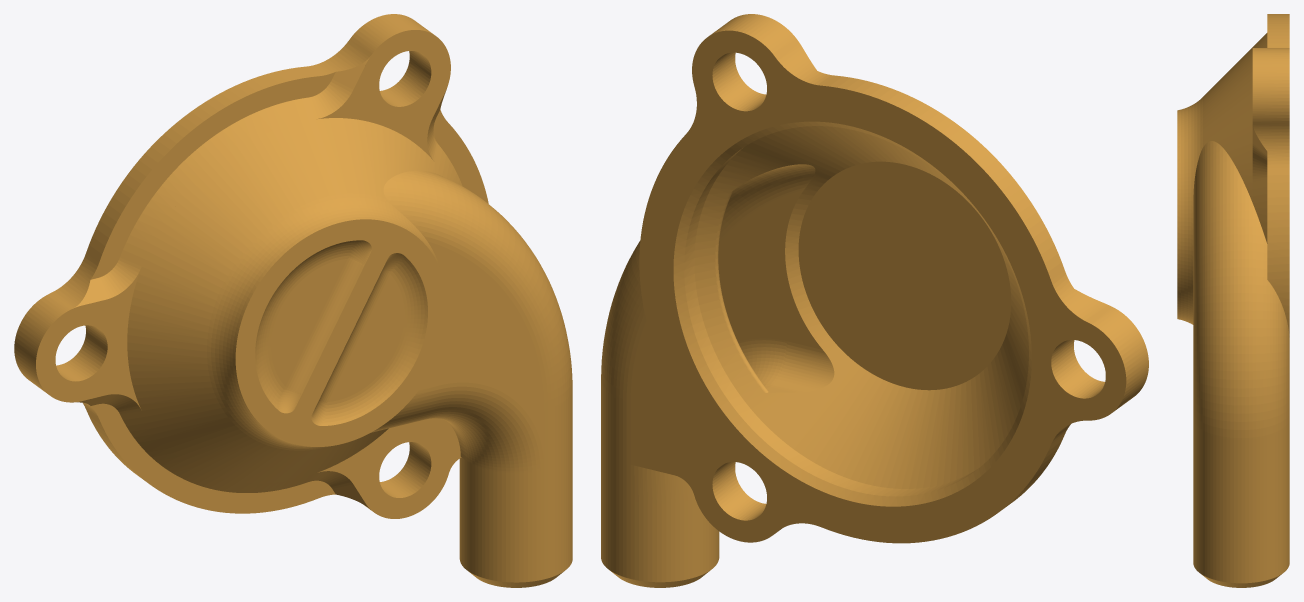
Rendered from X_Valve.gltf.
The picture shows the model from 3 angles, left to right: view 1: azimuth 30°, elevation 25°; view 2: azimuth 150°, elevation 25°; view 3: azimuth 270°, elevation 25°; orthographic projection. The views are drawn at different scales.
Size of the model in its own units: 32.05 by 32.72 by 7.
